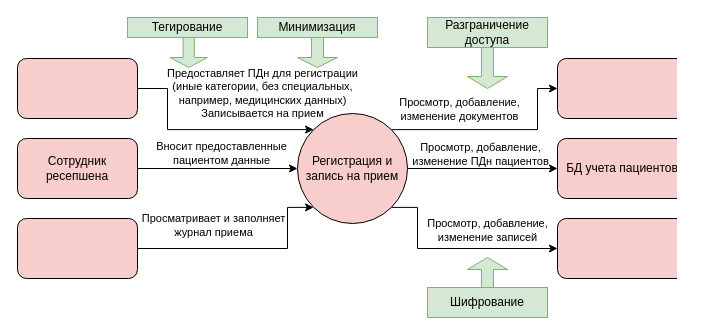
The diagram is 705 pixels wide and 335 high, and some of its shapes have lost their labels. Here are the shapes that lost their labels. From the top down, the centre of each, then its label:
At [77,88]: "Пациент".
At [622,88]: "БД медицинских метериалов пациентов".
At [77,248]: "Врач".
At [622,248]: "БД журналов према".
